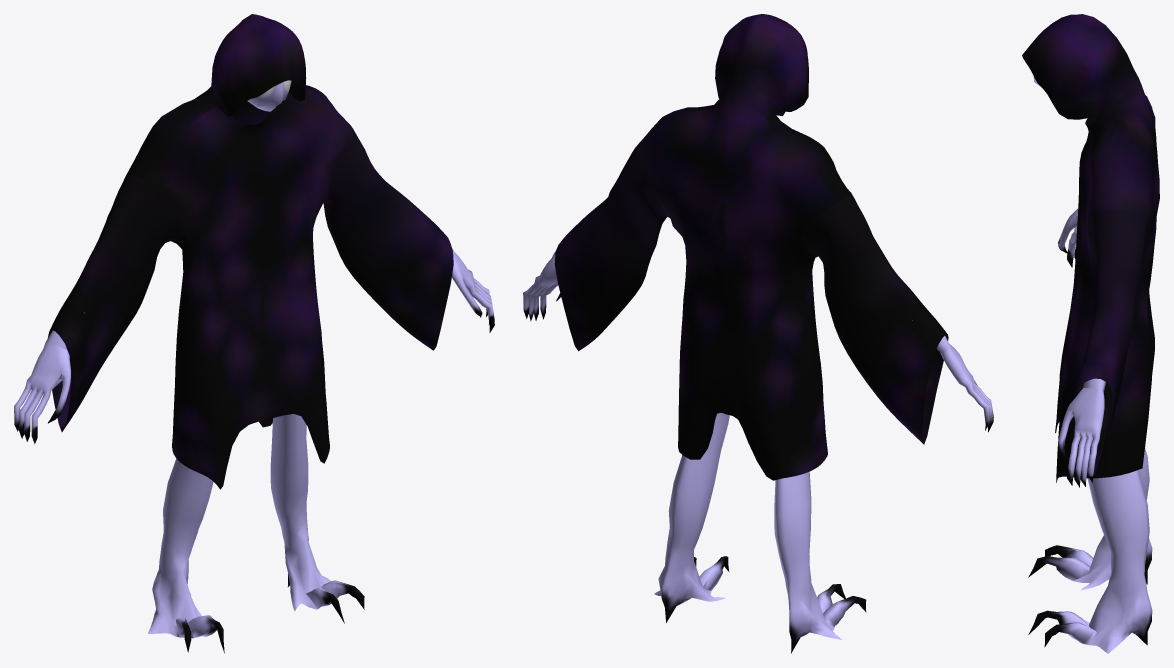
The model's file is Entity 2 Model.fbx.
3 renders of one model, left to right at view 1: azimuth 30°, elevation 25°; view 2: azimuth 150°, elevation 25°; view 3: azimuth 270°, elevation 25°, orthographic. The views are drawn at different scales.
Parts seen in each view (by area): view 1: Cloak, Model_Cylinder; view 2: Cloak, Model_Cylinder; view 3: Cloak, Model_Cylinder.
Boxes of the visible parts, x1,y1,x2,y2 form: Cloak: (48, 14, 453, 489); Model_Cylinder: (14, 80, 494, 653); Cloak: (554, 14, 948, 480); Model_Cylinder: (523, 252, 993, 653); Cloak: (1022, 14, 1159, 482); Model_Cylinder: (1028, 76, 1152, 653).
Size of the model in its own units: 445 by 545 by 113.
